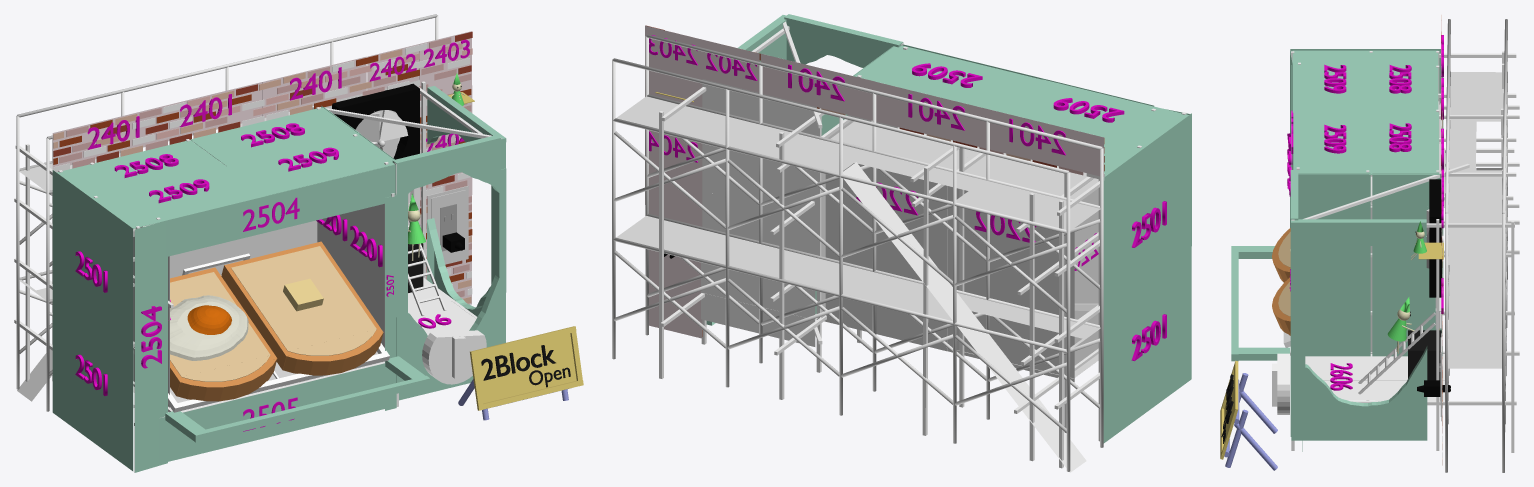
The model's file is number.glb.
3 renders of one model, left to right at view 1: azimuth 30°, elevation 25°; view 2: azimuth 150°, elevation 25°; view 3: azimuth 270°, elevation 25°, orthographic. The views are drawn at different scales.
Visible parts, largest first — view 1: 立方体.085, 立方体.181, 立方体.175, 平面.001, 立方体.151, 立方体.001, 立方体.150, 円柱.024, 立方体.119, 73_円柱.086, 平面.002, 立方体.159 (+39 smaller); view 2: 73_円柱.086, 立方体.181, 立方体.175, 立方体.066, 立方体.009, 立方体.159, 立方体.158, 立方体.073, 立方体.075, 立方体.077, 立方体.078, 立方体.079 (+26 smaller); view 3: 73_円柱.086, 平面.002, 立方体.147, 立方体.148, 立方体.159, 立方体.158, 立方体.160, 立方体.165, 円柱.024, 立方体.028, プロペラ箱, 立方体.115 (+28 smaller).
Part boxes in pixels (<box>): 立方体.085: <box>221,241,383,375</box>; 立方体.181: <box>52,170,133,349</box>; 立方体.175: <box>52,291,133,471</box>; 平面.001: <box>392,135,501,384</box>; 立方体.151: <box>166,164,395,256</box>; 立方体.001: <box>159,363,384,463</box>; 立方体.150: <box>134,221,167,472</box>; 円柱.024: <box>458,326,583,420</box>; 立方体.119: <box>170,267,277,401</box>; 73_円柱.086: <box>16,14,438,411</box>; 平面.002: <box>427,86,506,343</box>; 立方体.159: <box>93,167,266,228</box>; 73_円柱.086: <box>612,34,1103,472</box>; 立方体.181: <box>1103,113,1191,310</box>; 立方体.175: <box>1103,246,1191,443</box>; 立方体.066: <box>947,186,1074,382</box>; 立方体.009: <box>824,163,947,351</box>; 立方体.159: <box>999,79,1188,146</box>; 立方体.158: <box>854,45,1041,111</box>; 立方体.073: <box>701,262,815,346</box>; 立方体.075: <box>702,143,816,225</box>; 立方体.077: <box>989,109,1103,176</box>; 立方体.078: <box>875,81,989,148</box>; 立方体.079: <box>760,53,874,120</box>; 73_円柱.086: <box>1445,19,1507,472</box>; 平面.002: <box>1290,219,1427,440</box>; 立方体.147: <box>1298,173,1370,356</box>; 立方体.148: <box>1372,173,1442,356</box>; 立方体.159: <box>1292,50,1368,112</box>; 立方体.158: <box>1293,112,1369,174</box>; 立方体.160: <box>1368,50,1438,112</box>; 立方体.165: <box>1369,112,1438,174</box>; 円柱.024: <box>1220,360,1277,470</box>; 立方体.028: <box>1305,354,1375,380</box>; プロペラ箱: <box>1429,179,1441,297</box>; 立方体.115: <box>1408,330,1441,380</box>.
Size of the model in its own units: 14.54 by 9.4 by 9.4.
